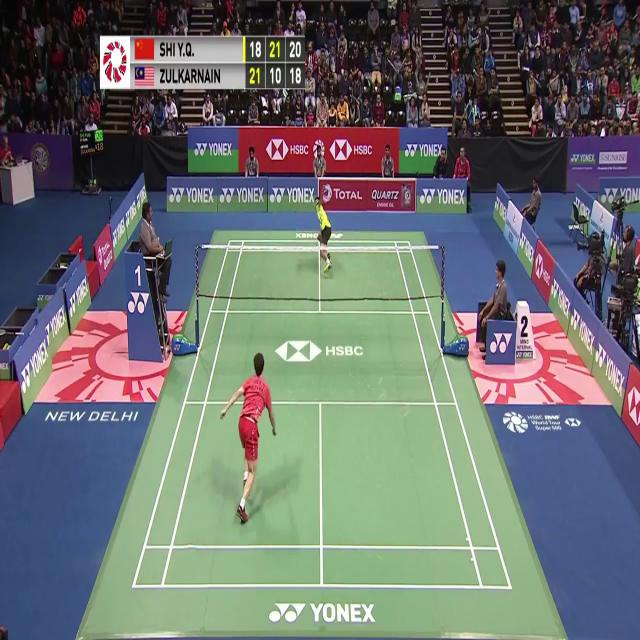Shuttlecock: (295, 185, 302, 197)
